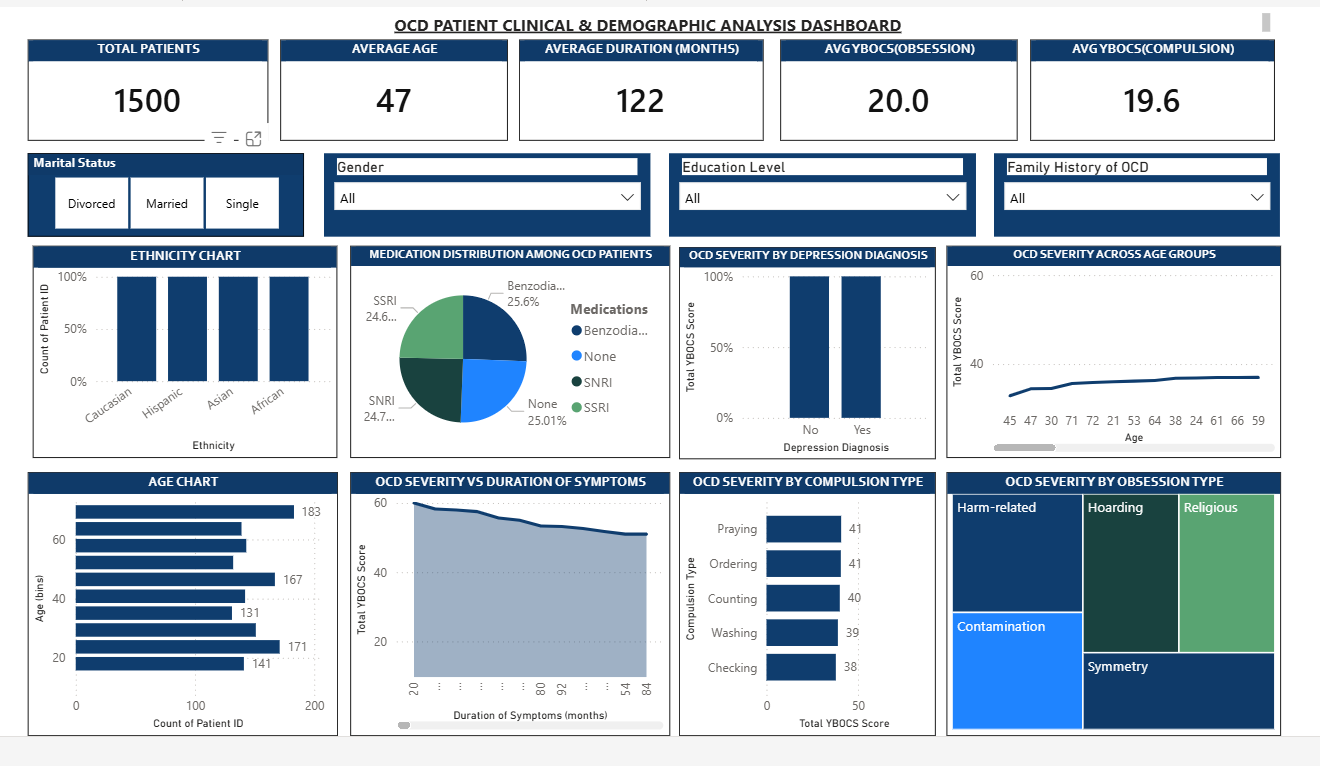

The dashboard page shown, as its layout file describes it:
{"tool":"powerbi","page":{"name":"Page 1","canvas":[1280,720],"ordinal":0},"visuals":[{"type":"cardVisual","title":"TOTAL PATIENTS","fields":{"Data":["OCD Patient Dataset_ Demographics & Clinical Data (1).Total_Patients"]},"box":[23.3,31.6,237.4,100.2],"z":0},{"type":"cardVisual","title":"AVERAGE DURATION (MONTHS)","fields":{"Data":["OCD patient dataset.Average Duration(months)"]},"box":[509.1,31.6,241.5,100.2],"z":1000},{"type":"cardVisual","title":"AVG YBOCS(COMPULSION)","fields":{"Data":["OCD patient dataset.Avg YBOCS compulsion"]},"box":[1014.1,31.6,241.5,100.2],"z":2000},{"type":"cardVisual","title":"AVG YBOCS(OBSESSION)","fields":{"Data":["OCD patient dataset.Avg YBOCS Obsession"]},"box":[767.1,31.6,234.6,100.2],"z":3000},{"type":"hundredPercentStackedColumnChart","title":" ETHNICITY CHART","fields":{"Category":["OCD patient dataset.Ethnicity"],"Y":["CountNonNull(OCD patient dataset.Patient ID)"]},"box":[28.8,236,300.5,209.9],"z":4000},{"type":"barChart","title":" AGE CHART","fields":{"Category":["OCD patient dataset.Age (bins)"],"Y":["CountNonNull(OCD patient dataset.Patient ID)"]},"box":[23.3,459.7,306,260.7],"z":5000},{"type":"pieChart","title":"MEDICATION DISTRIBUTION AMONG OCD PATIENTS","fields":{"Category":["OCD patient dataset.Medications"],"Y":["OCD patient dataset.Total YBOCS Score"]},"box":[341.7,236,315.6,209.9],"z":6000},{"type":"stackedAreaChart","title":"OCD SEVERITY VS DURATION OF SYMPTOMS","fields":{"Category":["OCD patient dataset.Duration of Symptoms (months)"],"Y":["OCD patient dataset.Total YBOCS Score"]},"box":[341.7,459.7,315.6,260.7],"z":7000},{"type":"slicer","title":"OCD Severity by Family History","fields":{"Values":["OCD patient dataset.Family History of OCD"]},"box":[978.4,144.1,282.7,82.3],"z":8000},{"type":"treemap","title":"OCD SEVERITY BY OBSESSION TYPE","fields":{"Group":["OCD patient dataset.Obsession Type"],"Values":["OCD patient dataset.Total YBOCS Score"]},"box":[930.4,459.7,330.7,260.7],"z":9000},{"type":"barChart","title":"OCD SEVERITY BY COMPULSION TYPE","fields":{"Category":["OCD patient dataset.Compulsion Type"],"Y":["OCD patient dataset.Total YBOCS Score"]},"box":[666.9,459.7,253.9,260.7],"z":10000},{"type":"lineChart","title":"OCD SEVERITY ACROSS AGE GROUPS","fields":{"Category":["OCD patient dataset.Age"],"Y":["OCD patient dataset.Total YBOCS Score"]},"box":[930.4,236,330.7,209.9],"z":11000},{"type":"slicer","title":"GENDER","fields":{"Values":["OCD patient dataset.Gender"]},"box":[315.6,144.1,322.5,82.3],"z":12000},{"type":"slicer","fields":{"Values":["OCD patient dataset.Education Level"]},"box":[657.3,144.1,303.3,82.3],"z":13000},{"type":"hundredPercentStackedColumnChart","title":"OCD SEVERITY BY DEPRESSION DIAGNOSIS","fields":{"Category":["OCD patient dataset.Depression Diagnosis"],"Y":["OCD patient dataset.Total YBOCS Score"]},"box":[666.9,237.4,253.9,209.9],"z":14000},{"type":"slicer","title":"Marital Status","fields":{"Values":["OCD patient dataset.Marital Status"]},"box":[23.3,144.1,273.1,82.3],"z":15000},{"type":"cardVisual","title":"AVERAGE AGE","fields":{"Data":["OCD patient dataset.Average Age"]},"box":[273.1,31.6,225,100.2],"z":16000},{"type":"textbox","box":[23.3,1.4,1232.3,30.2],"z":17000}]}

Visuals, with their boxes in screenshot pixels (x1, y1, x2, y2):
"TOTAL PATIENTS" cardVisual: {"x1": 24, "y1": 36, "x2": 265, "y2": 137}
"AVERAGE DURATION (MONTHS)" cardVisual: {"x1": 518, "y1": 36, "x2": 763, "y2": 137}
"AVG YBOCS(COMPULSION)" cardVisual: {"x1": 1031, "y1": 36, "x2": 1277, "y2": 137}
"AVG YBOCS(OBSESSION)" cardVisual: {"x1": 780, "y1": 36, "x2": 1019, "y2": 137}
" ETHNICITY CHART" hundredPercentStackedColumnChart: {"x1": 29, "y1": 243, "x2": 335, "y2": 457}
" AGE CHART" barChart: {"x1": 24, "y1": 471, "x2": 335, "y2": 736}
"MEDICATION DISTRIBUTION AMONG OCD PATIENTS" pieChart: {"x1": 348, "y1": 243, "x2": 668, "y2": 457}
"OCD SEVERITY VS DURATION OF SYMPTOMS" stackedAreaChart: {"x1": 348, "y1": 471, "x2": 668, "y2": 736}
"OCD Severity by Family History" slicer: {"x1": 995, "y1": 150, "x2": 1283, "y2": 234}
"OCD SEVERITY BY OBSESSION TYPE" treemap: {"x1": 946, "y1": 471, "x2": 1283, "y2": 736}
"OCD SEVERITY BY COMPULSION TYPE" barChart: {"x1": 678, "y1": 471, "x2": 936, "y2": 736}
"OCD SEVERITY ACROSS AGE GROUPS" lineChart: {"x1": 946, "y1": 243, "x2": 1283, "y2": 457}
"GENDER" slicer: {"x1": 321, "y1": 150, "x2": 649, "y2": 234}
slicer - OCD patient dataset.Education Level: {"x1": 668, "y1": 150, "x2": 977, "y2": 234}
"OCD SEVERITY BY DEPRESSION DIAGNOSIS" hundredPercentStackedColumnChart: {"x1": 678, "y1": 245, "x2": 936, "y2": 458}
"Marital Status" slicer: {"x1": 24, "y1": 150, "x2": 301, "y2": 234}
"AVERAGE AGE" cardVisual: {"x1": 278, "y1": 36, "x2": 507, "y2": 137}
textbox: {"x1": 24, "y1": 5, "x2": 1277, "y2": 36}
